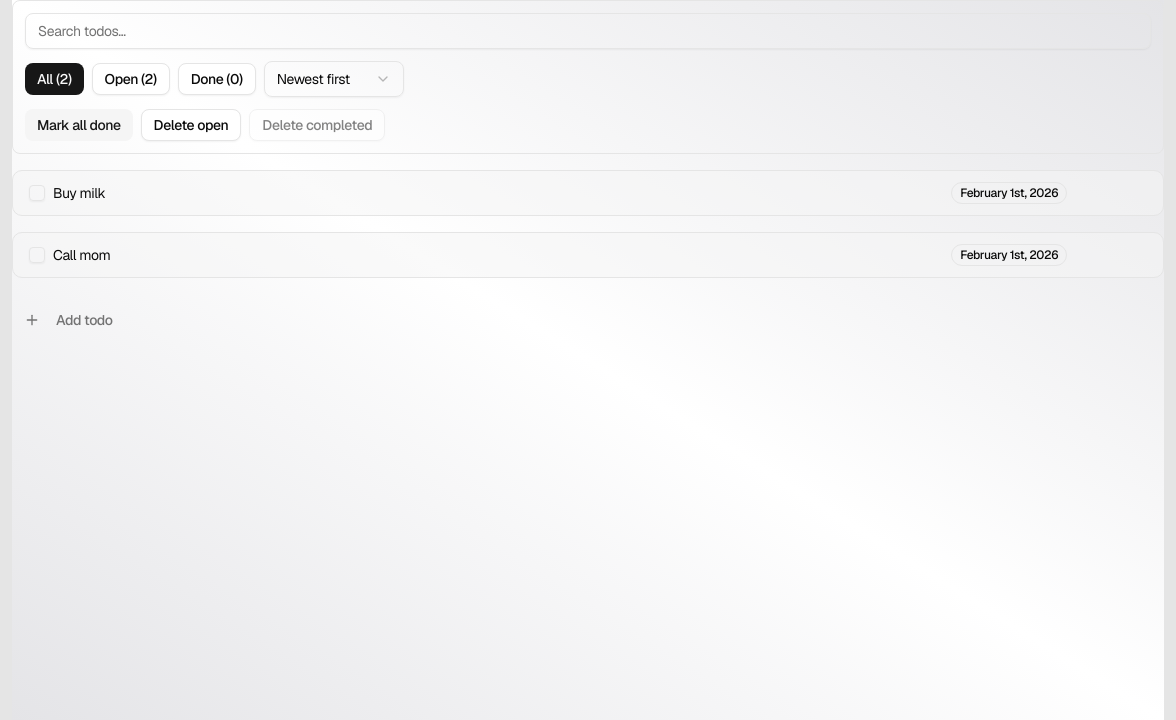
Test: TodoList integration › should filter todos with text search
This screenshot has width=1176, height=720.
Check: the text "Buy milk" is shown, box [53,183,105,203]
In the field labelled "Search todos": x=588, y=31 [25,13,1151,49], type "call"
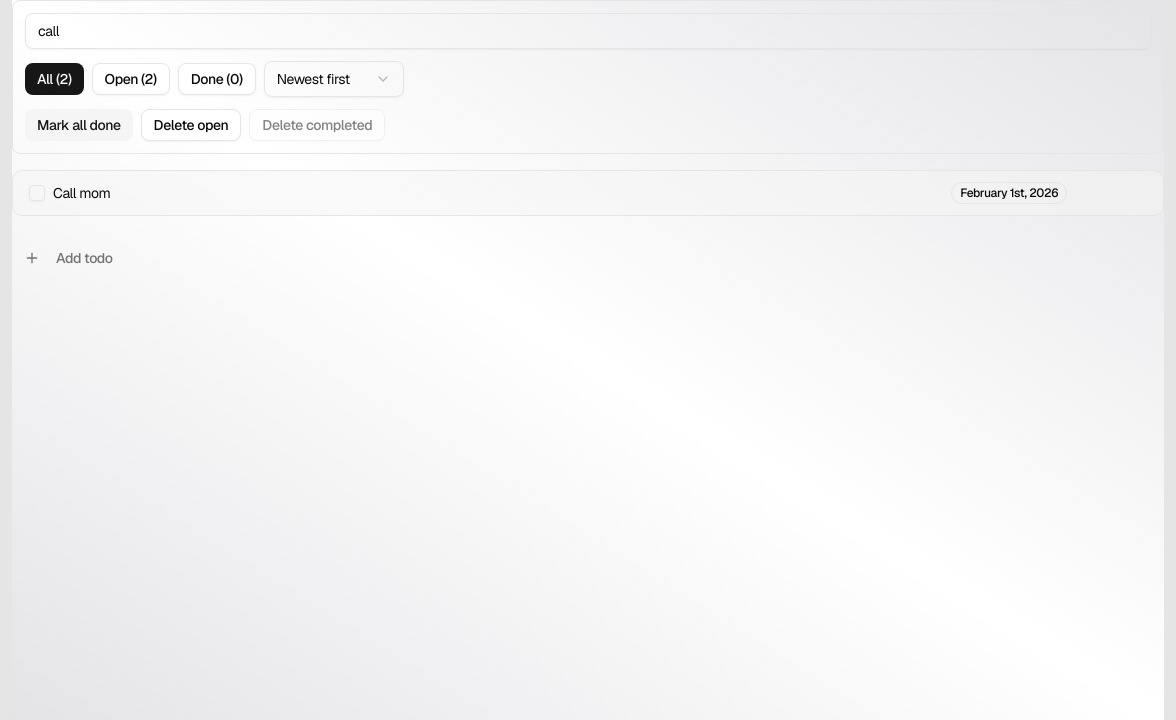
Check: the text "Call mom" is shown, box [53,183,110,203]
Check: the text "Buy milk" is gone
